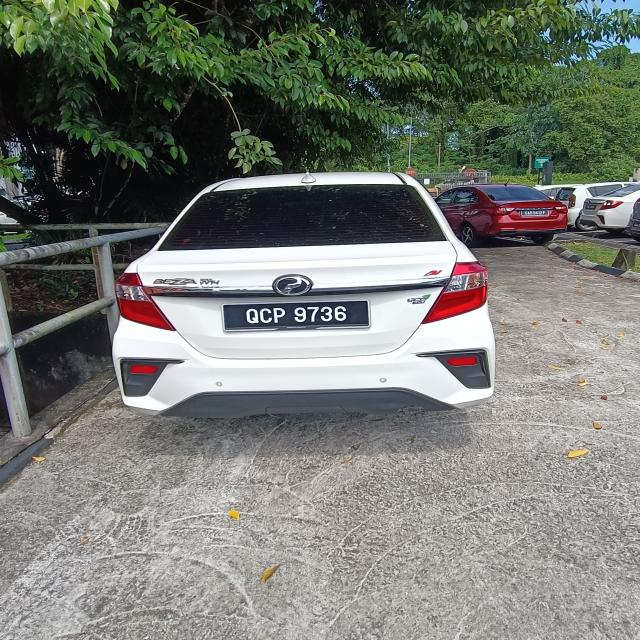PeroduaBezza: (110, 170, 497, 418)
